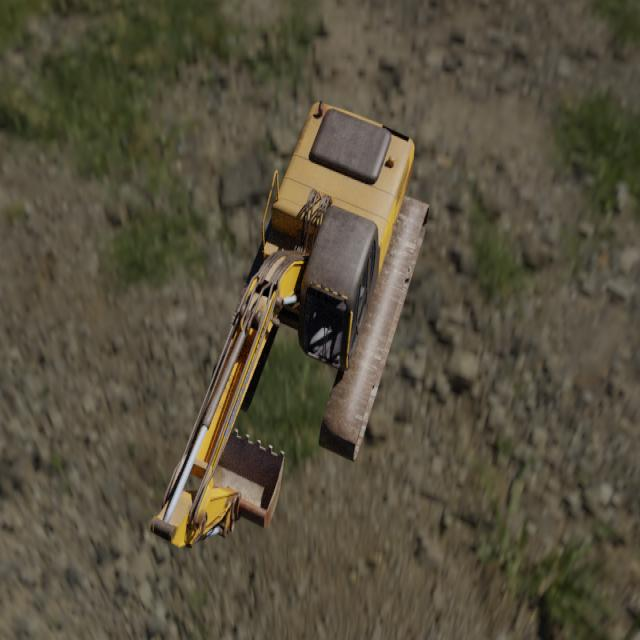excavator: (150, 100, 430, 548)
